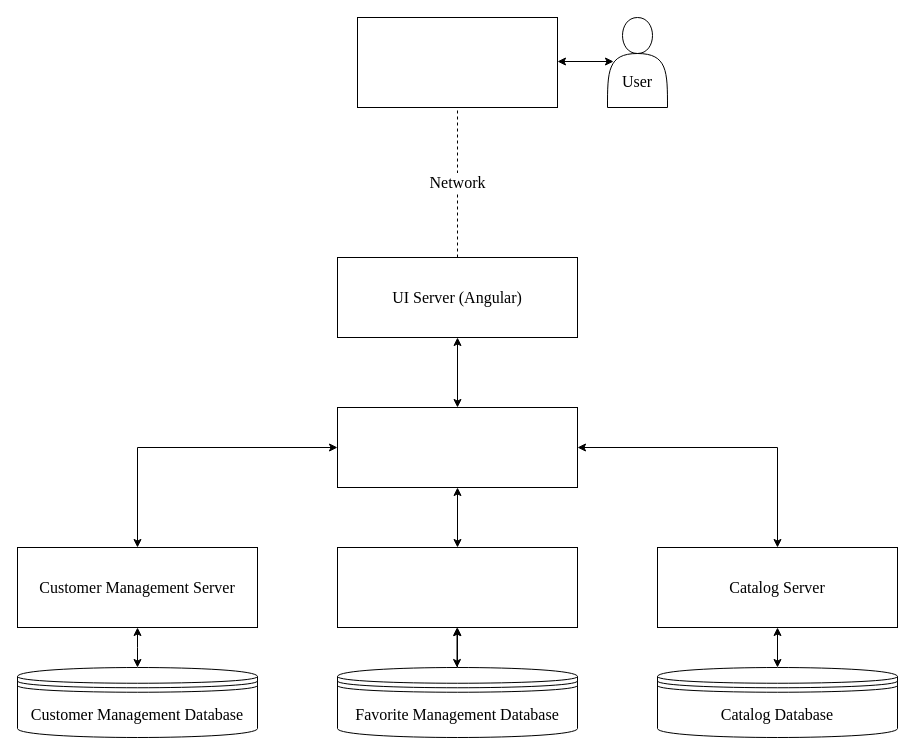
The diagram is 915 pixels wide and 755 high, and some of its shapes have lost their labels. Each missing label, with the centre of its shape:
"Favorite Management Server" goes at pixel 457 587.
"Processor" goes at pixel 457 447.
"Web-browser" goes at pixel 457 62.
